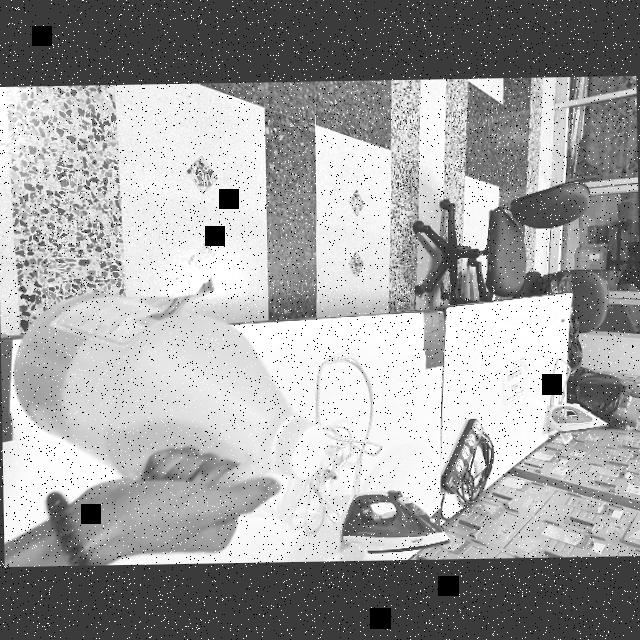chemical_plastic_gallon: (8, 256, 325, 534)
